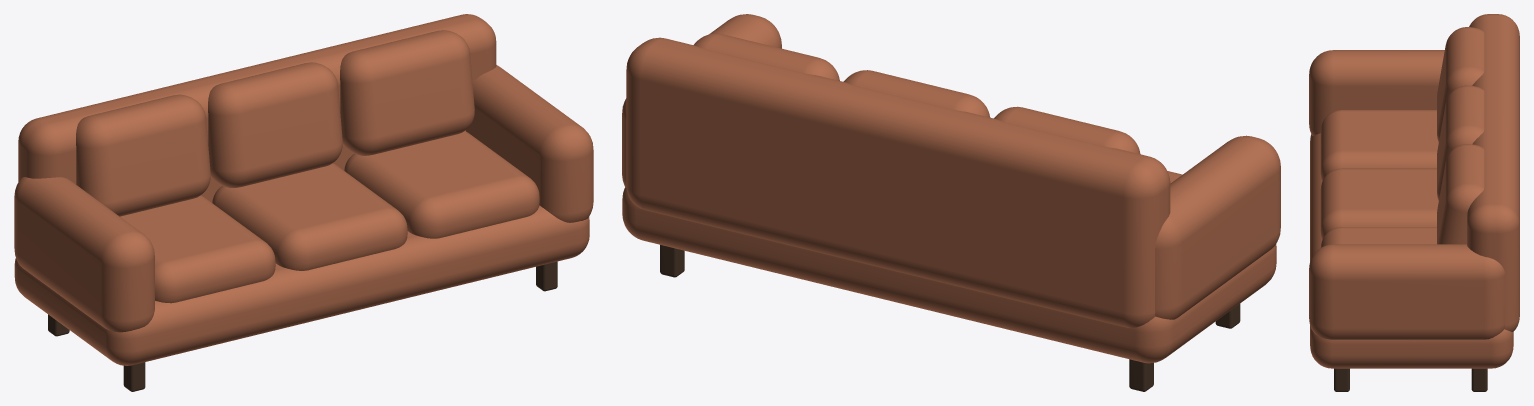
File: sofa_no_pillows_terracotta.glb
3 renders of one model, left to right at view 1: azimuth 30°, elevation 25°; view 2: azimuth 150°, elevation 25°; view 3: azimuth 270°, elevation 25°, orthographic. The views are drawn at different scales.
Visible parts, largest first — view 1: Upholstered foundation, Rounded padded arm, Plush back cushion.002, Plush back cushion.001, Plush back cushion, Seat cushion.002, Seat cushion.001, Rounded padded arm.001, Padded back frame, Seat cushion, Walnut foot, Walnut foot.002; view 2: Padded back frame, Upholstered foundation, Rounded padded arm, Plush back cushion.001, Plush back cushion.002, Plush back cushion, Rounded padded arm.001, Walnut foot.001, Walnut foot.003; view 3: Rounded padded arm.001, Padded back frame, Rounded padded arm, Upholstered foundation, Seat cushion, Seat cushion.001, Plush back cushion.002, Plush back cushion.001, Plush back cushion, Seat cushion.002, Walnut foot.003, Walnut foot.002.
Boxes of the visible parts, x1,y1,x2,y2 form: Upholstered foundation: (14,205,589,365); Rounded padded arm: (14,177,154,332); Plush back cushion.002: (340,30,474,155); Plush back cushion.001: (208,62,342,187); Plush back cushion: (76,94,210,216); Seat cushion.002: (344,131,539,238); Seat cushion.001: (212,163,407,270); Rounded padded arm.001: (466,65,593,222); Padded back frame: (18,14,496,202); Seat cushion: (120,195,275,303); Walnut foot: (123,362,145,391); Walnut foot.002: (536,261,557,291); Padded back frame: (626,37,1170,328); Upholstered foundation: (622,187,1276,363); Rounded padded arm: (1155,135,1280,319); Plush back cushion.001: (843,70,990,117); Plush back cushion.002: (693,33,839,80); Plush back cushion: (994,106,1140,154); Rounded padded arm.001: (622,14,781,187); Walnut foot.001: (1129,359,1153,391); Walnut foot.003: (660,245,684,277); Rounded padded arm.001: (1309,244,1505,339); Padded back frame: (1467,14,1519,331); Rounded padded arm: (1309,50,1444,135); Upholstered foundation: (1310,133,1513,368); Seat cushion: (1320,110,1438,181); Seat cushion.001: (1320,168,1438,239); Plush back cushion.002: (1437,144,1484,244); Plush back cushion.001: (1437,85,1484,200); Plush back cushion: (1437,27,1484,142); Seat cushion.002: (1320,227,1436,247); Walnut foot.003: (1471,368,1487,391); Walnut foot.002: (1334,368,1349,391).
Size of the model in its own units: 2.42 by 0.9999 by 0.995.
